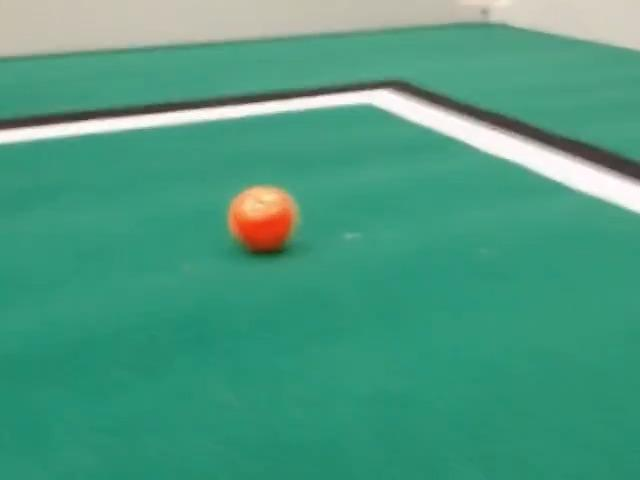Ball: (228, 186, 298, 252)
